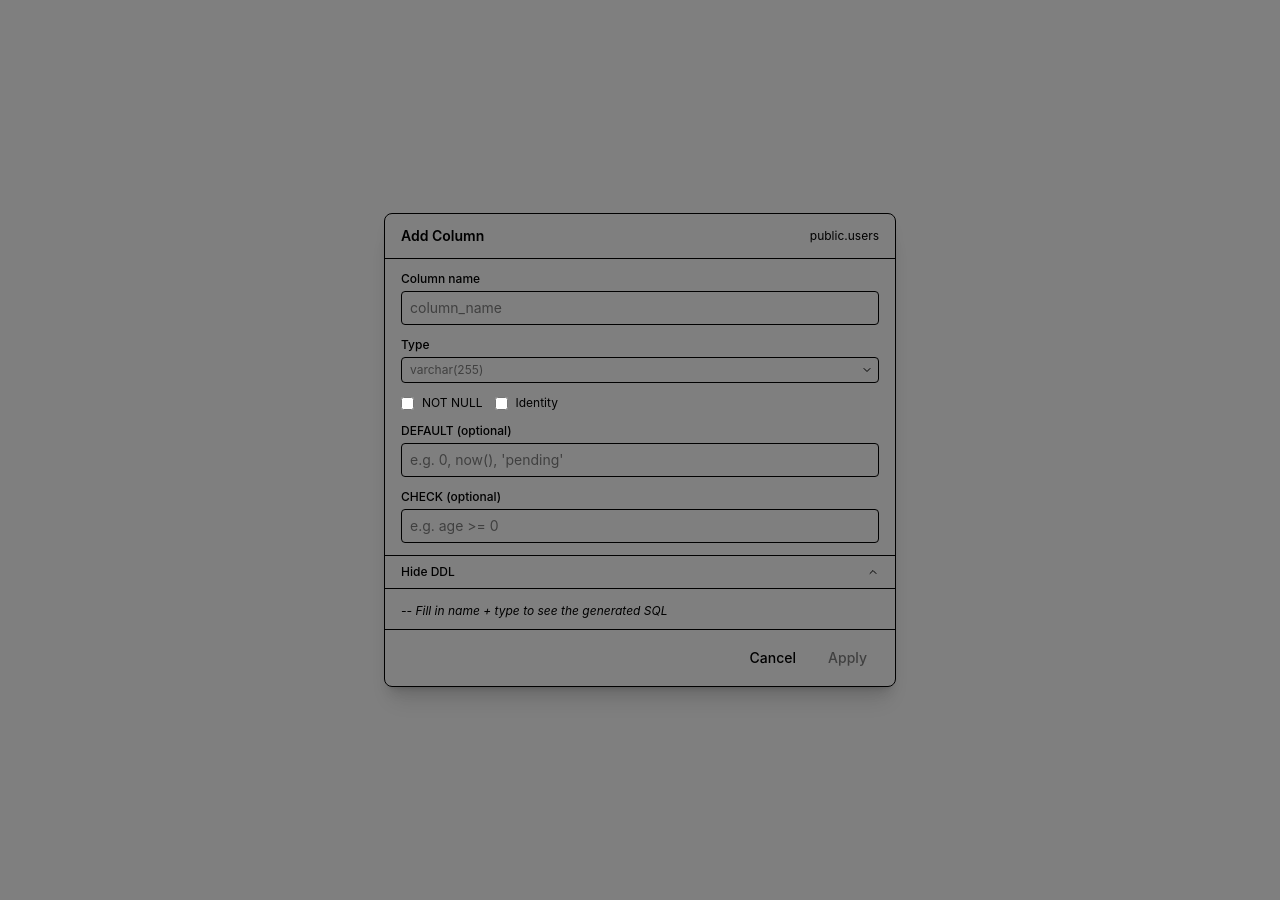
Test: AddColumnDialog (Sprint 236) › [Sprint 242] Identity toggle disables NOT NULL + DEFAULT inputs
Click the checkbox labelled "Identity".
click(501, 403)  # box [494,396,508,410]
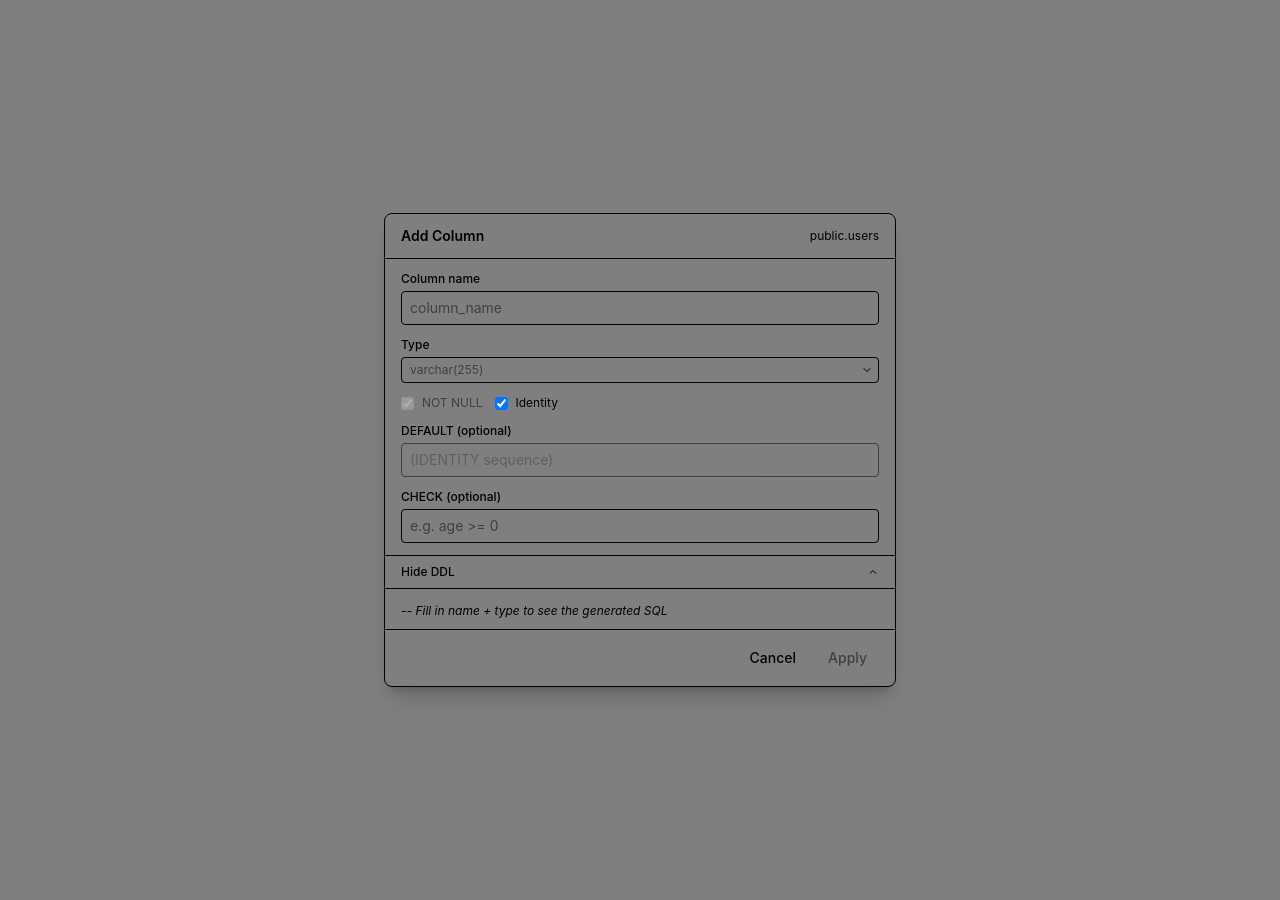
Expected: the checkbox labelled "NOT NULL" is disabled, [401,396,414,410]
Expected: the field named "DEFAULT expression" is disabled, [401,443,879,477]
